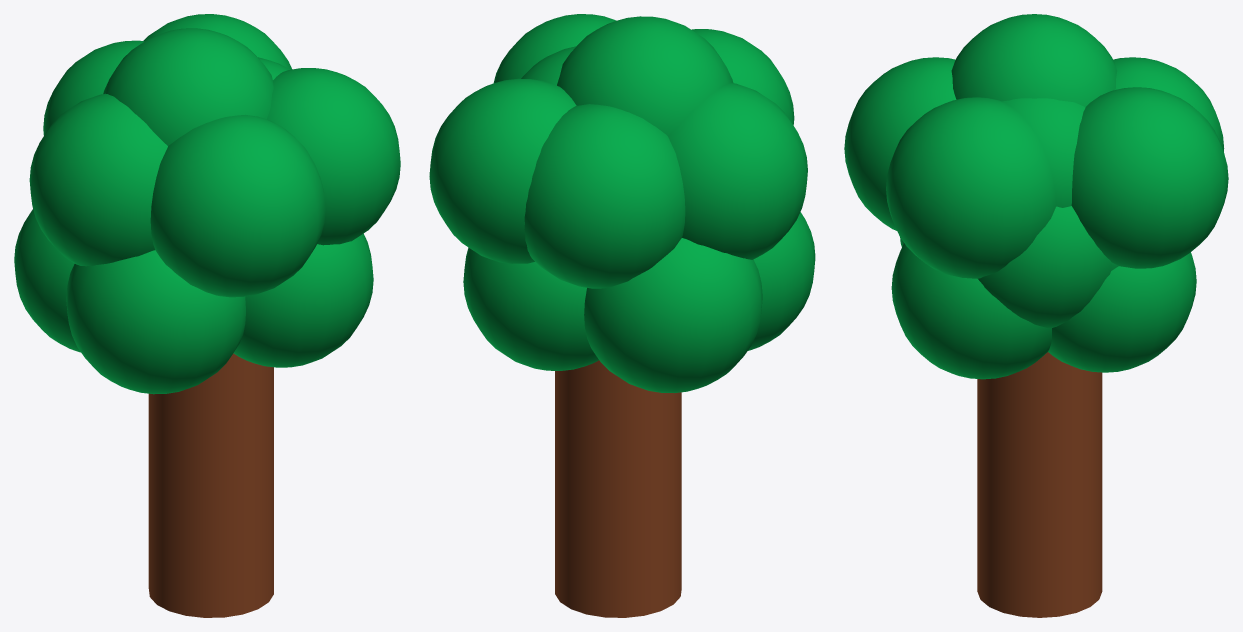
File: Tree.fbx
3 views of the same model, side by side, from view 1: azimuth 30°, elevation 25°; view 2: azimuth 150°, elevation 25°; view 3: azimuth 270°, elevation 25° (orthographic). The views are drawn at different scales.
Visible parts, largest first — view 1: pSphere18; view 2: pSphere18; view 3: pSphere18.
Boxes of the visible parts, x1,y1,x2,y2 form: pSphere18: (14,14,400,617); pSphere18: (429,14,815,617); pSphere18: (844,14,1228,617).
Size of the model in its own units: 3.99 by 6.73 by 4.2.
